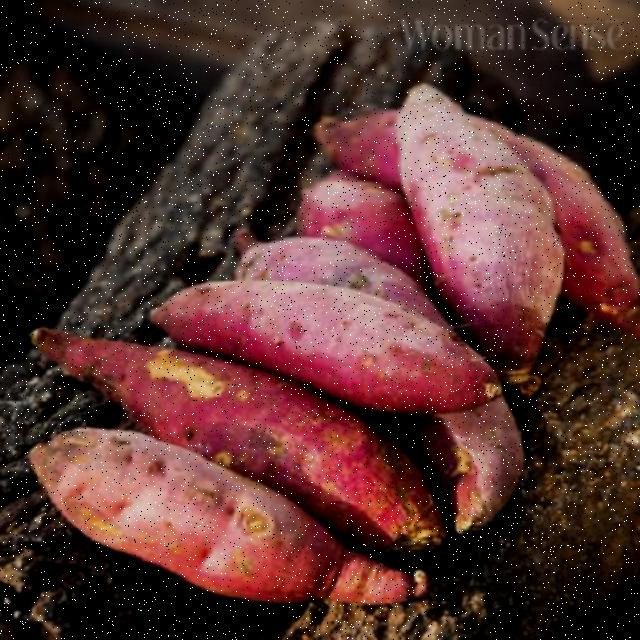Sweet Potato: (11, 424, 434, 639), (378, 58, 572, 416), (138, 258, 530, 424)
